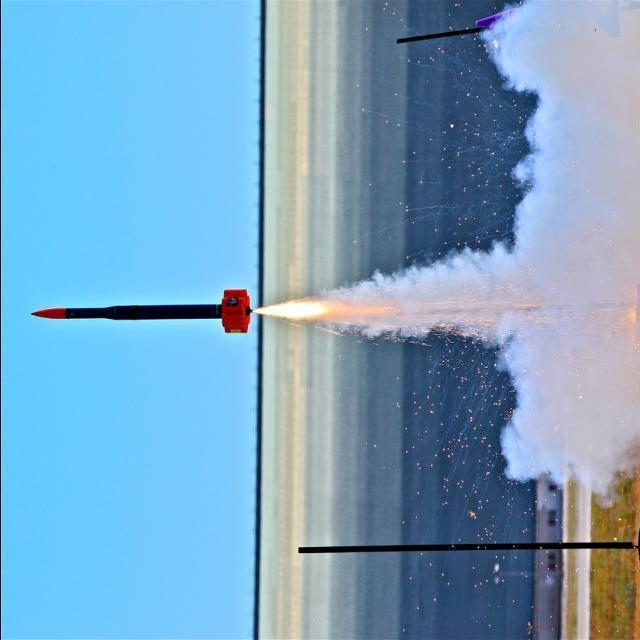missile: (23, 286, 267, 334)
